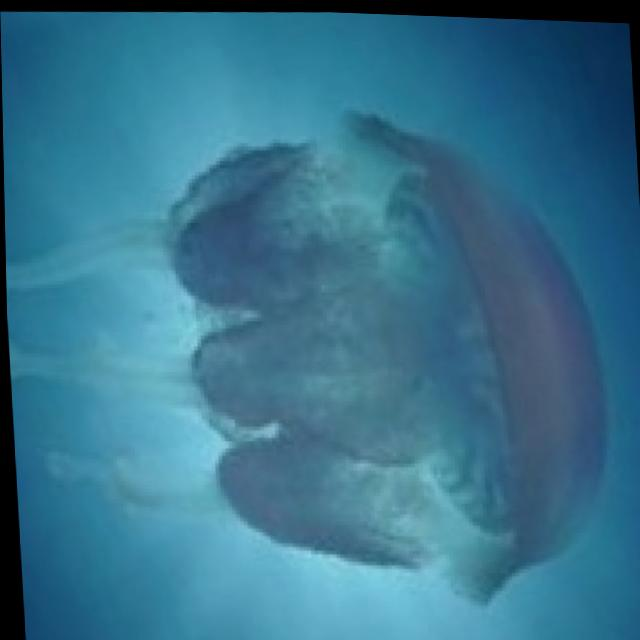Human: (154, 97, 616, 623)
